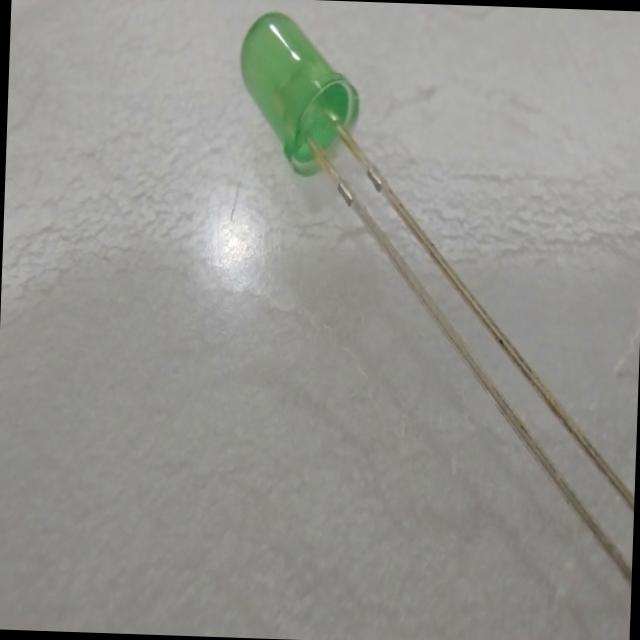green_led: (230, 0, 374, 189)
